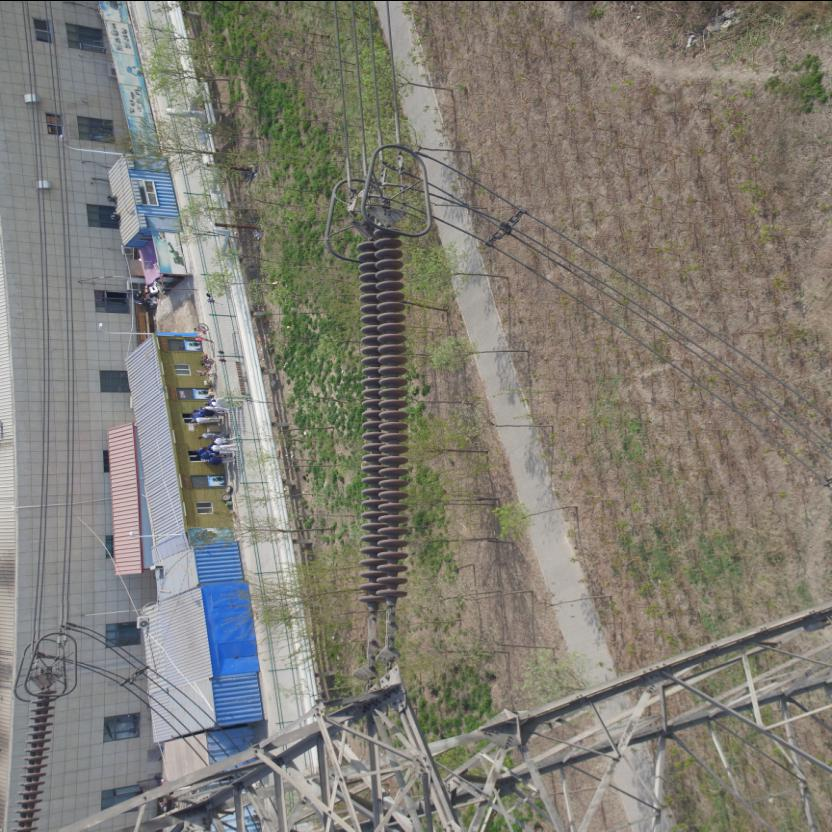insulator: (354, 222, 412, 630)
